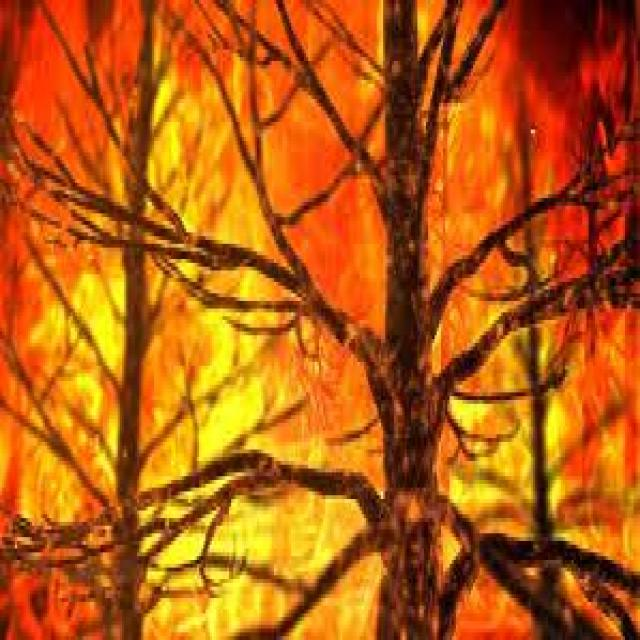fire: (476, 381, 632, 518), (177, 494, 310, 632), (167, 94, 263, 250), (56, 255, 123, 436), (194, 304, 274, 453), (455, 100, 566, 207)
